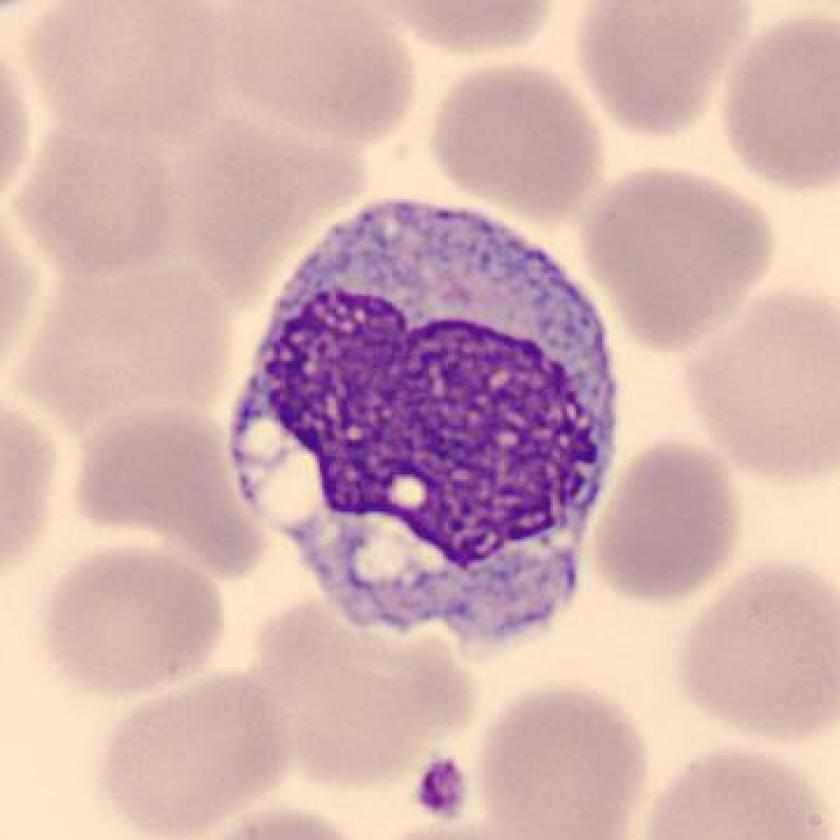monocyte: (216, 172, 640, 684)
